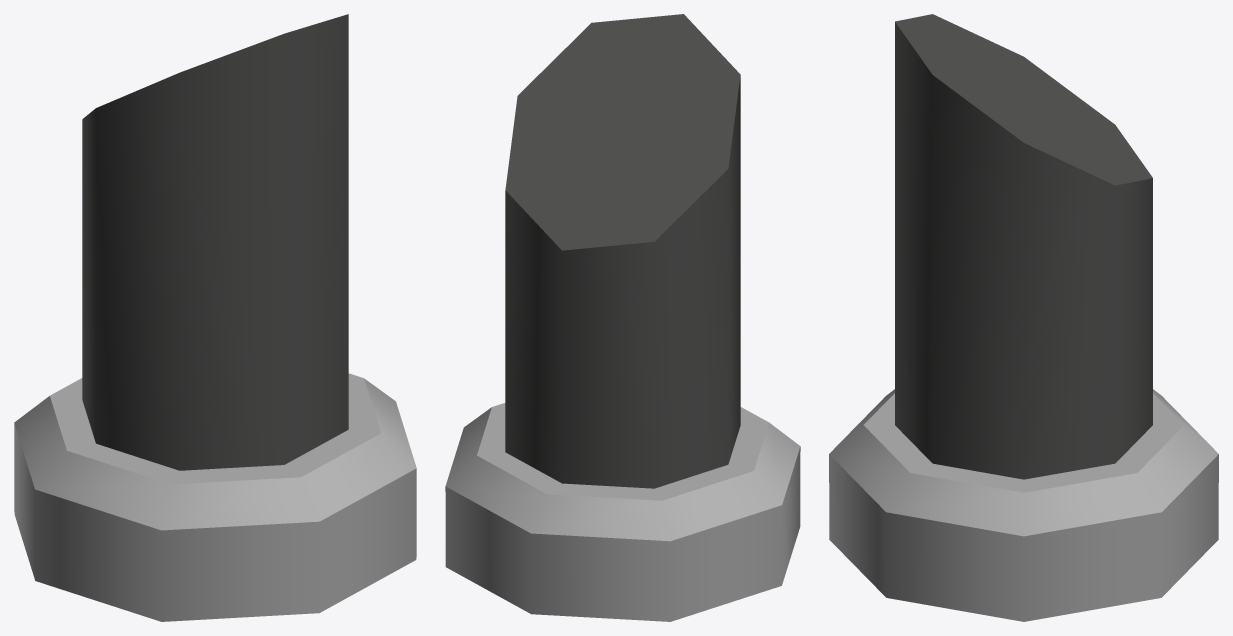
Rendered from Column_half.fbx.
The picture shows the model from 3 angles, left to right: view 1: azimuth 30°, elevation 25°; view 2: azimuth 150°, elevation 25°; view 3: azimuth 270°, elevation 25°; orthographic projection. The views are drawn at different scales.
Parts seen in each view (by area): view 1: Half pillar; view 2: Half pillar; view 3: Half pillar.
Boxes of the visible parts, x1=… form: Half pillar: x1=14, y1=14, x2=416, y2=621; Half pillar: x1=445, y1=14, x2=800, y2=621; Half pillar: x1=829, y1=14, x2=1218, y2=621.
Size of the model in its own units: 88.84 by 130 by 88.84.
